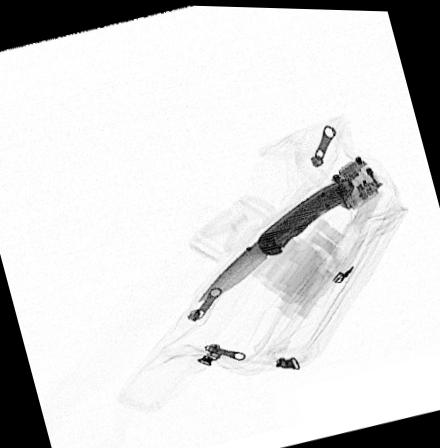Knife: (195, 176, 356, 303)
